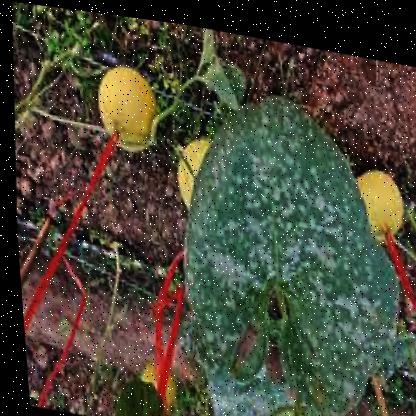PowderyMildew: (188, 115, 361, 296)
